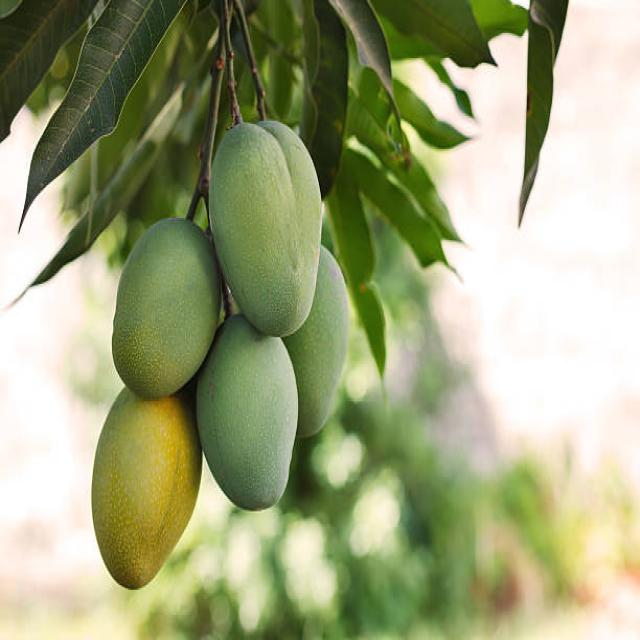mango: (91, 382, 202, 588), (196, 315, 298, 510), (112, 219, 219, 398), (284, 246, 349, 436)
